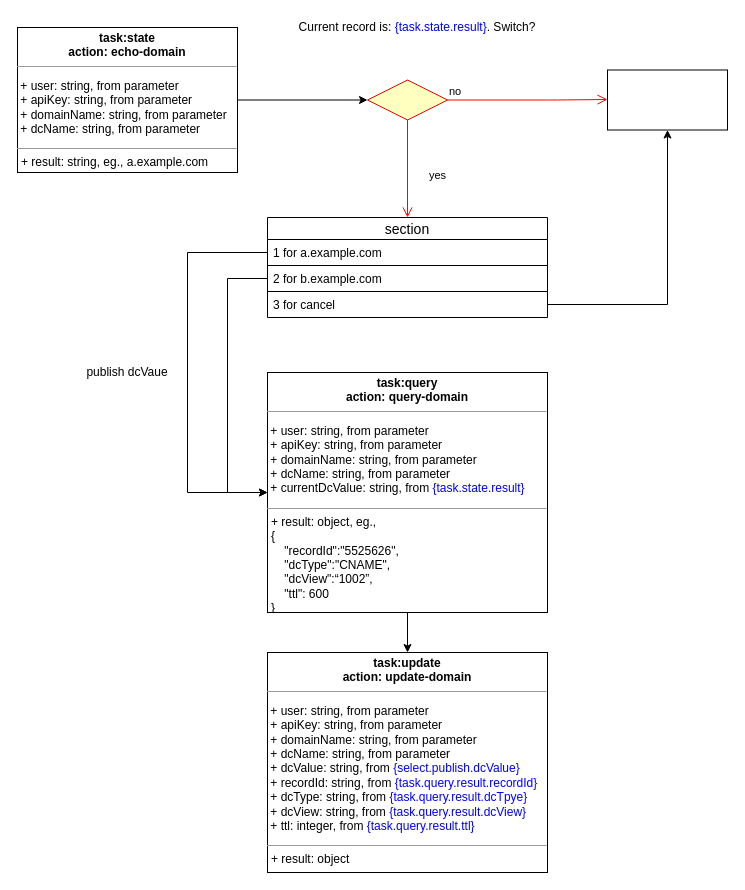
Some shapes in this 745 by 890 pixel diagram are drawn without their labels. Here are the shapes that lost their labels. From the top down, the centre of each, then its label:
point (407, 99): switch？
point (667, 99): cancel
